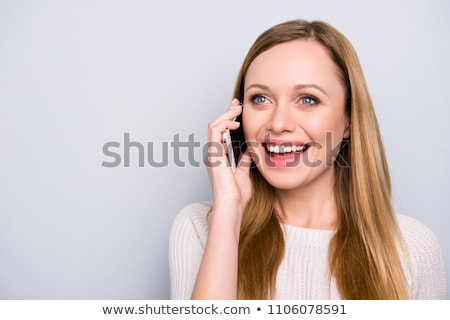phone: (213, 100, 251, 169)
talk: (192, 79, 343, 224)
